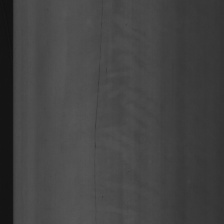inclusion: (90, 5, 105, 213)
